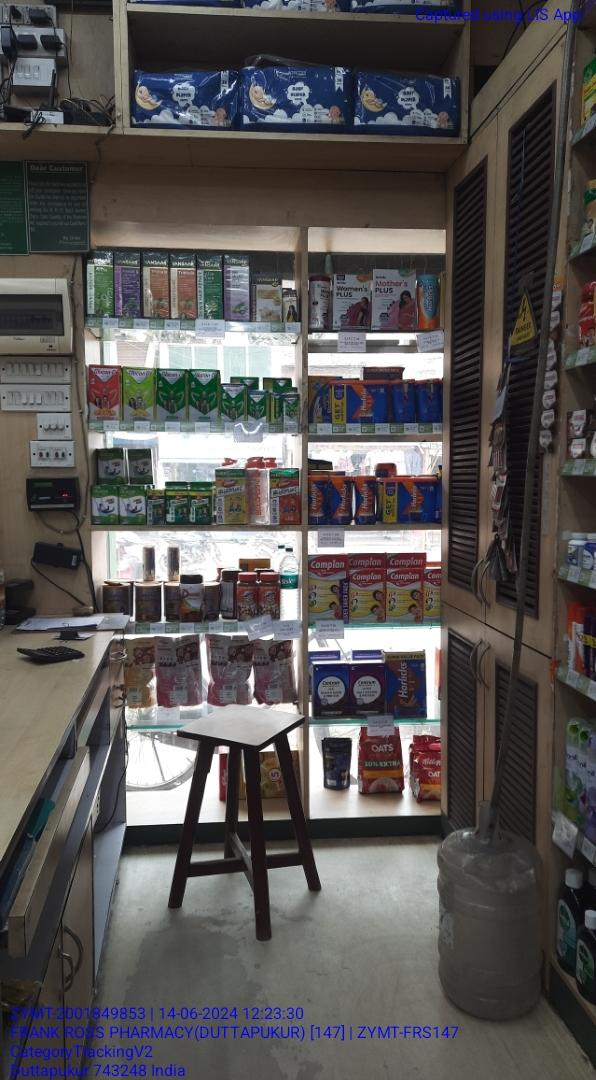COMPLAN_CREAMY_CLASSIC_500_G_PACK: (350, 570, 387, 623), (387, 568, 422, 623)
HORLICKS_LITE_REGULAR_MALT_500_GM_JAR: (418, 275, 437, 329)
HORLICK_CLASSIC_MALT_200_G_JAR: (331, 474, 352, 524), (355, 475, 376, 524), (308, 476, 329, 524)
HORLICK_MALT_1_KG_CONTAINER: (331, 379, 387, 422), (382, 477, 434, 523)
